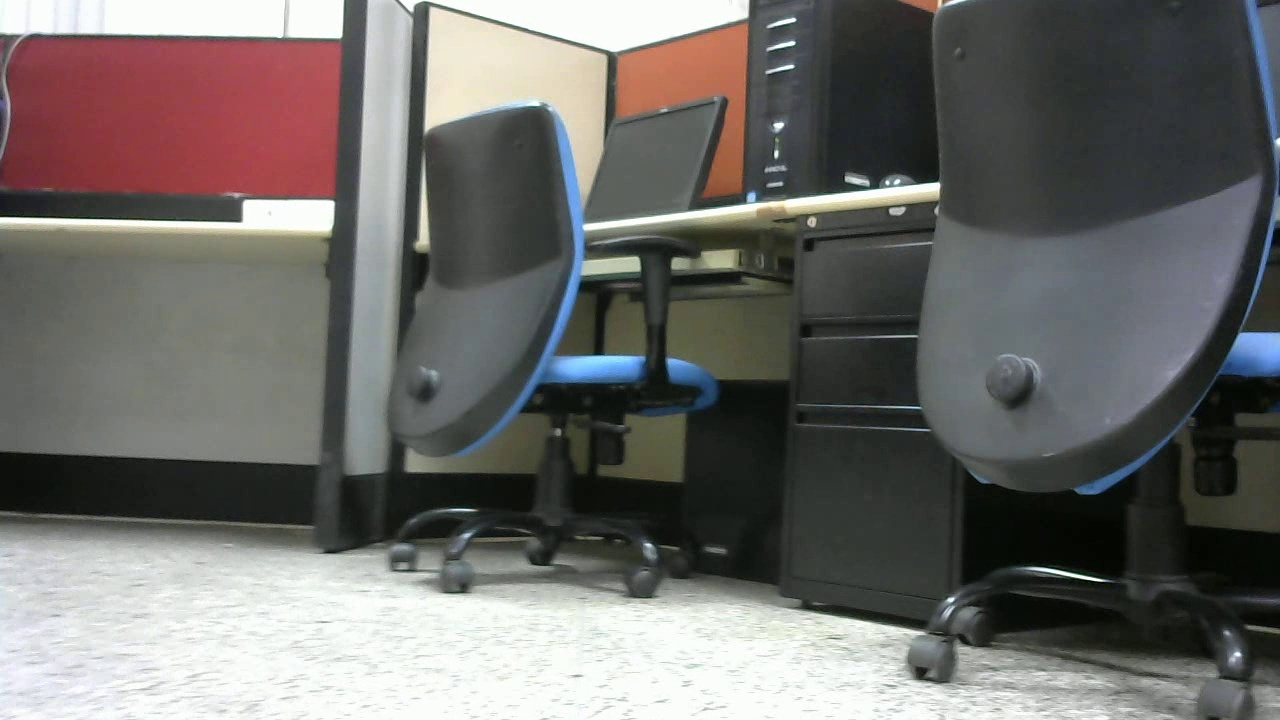chair: (364, 98, 729, 598)
